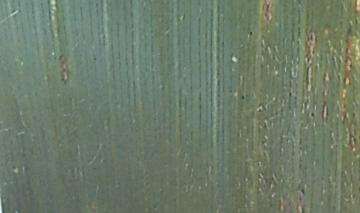tarspot: (284, 87, 297, 101), (308, 108, 318, 122), (246, 27, 256, 40), (238, 91, 248, 103), (255, 104, 265, 115)
